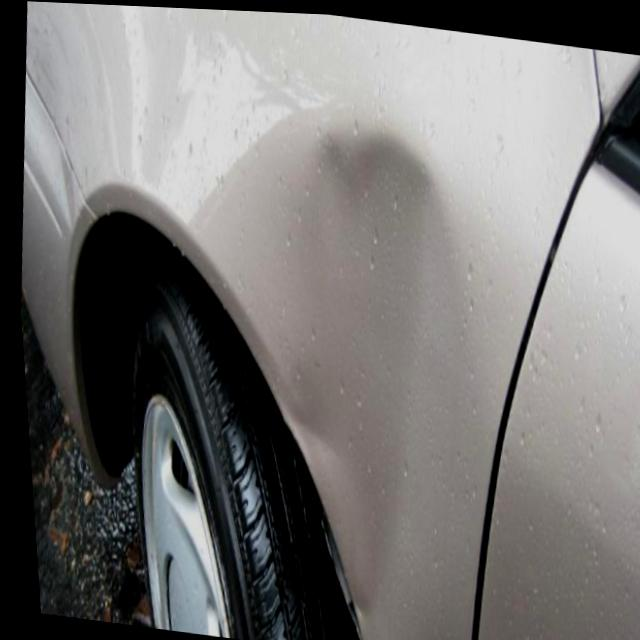Dent: (250, 135, 486, 640)
